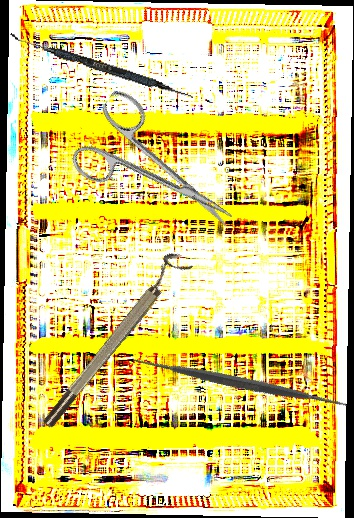Fixation Ring: (32, 247, 194, 432)
Iris Scissors: (62, 86, 255, 261)
Spatula Surgical: (127, 271, 352, 493), (7, 33, 196, 100)
